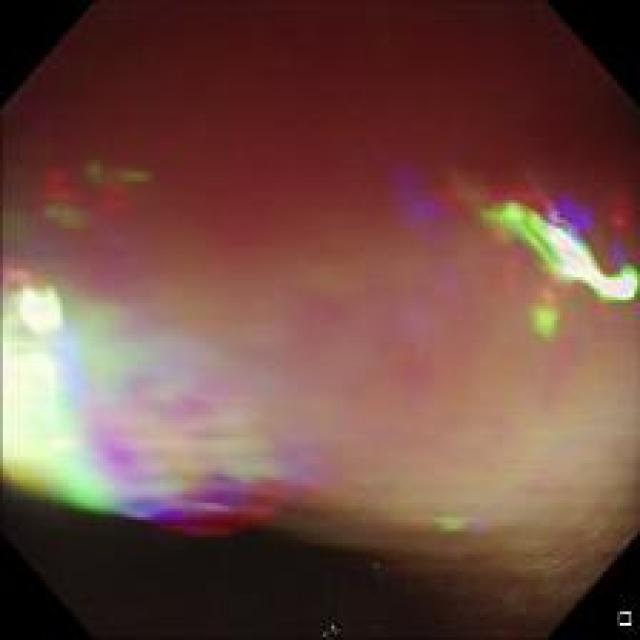blur: (4, 4, 632, 531)
bubbles: (525, 536, 568, 610)
color misalignment: (6, 259, 319, 540), (458, 166, 628, 321), (11, 148, 156, 276), (384, 158, 469, 330), (402, 509, 484, 540), (318, 612, 342, 636)
contrast: (14, 491, 495, 639)
